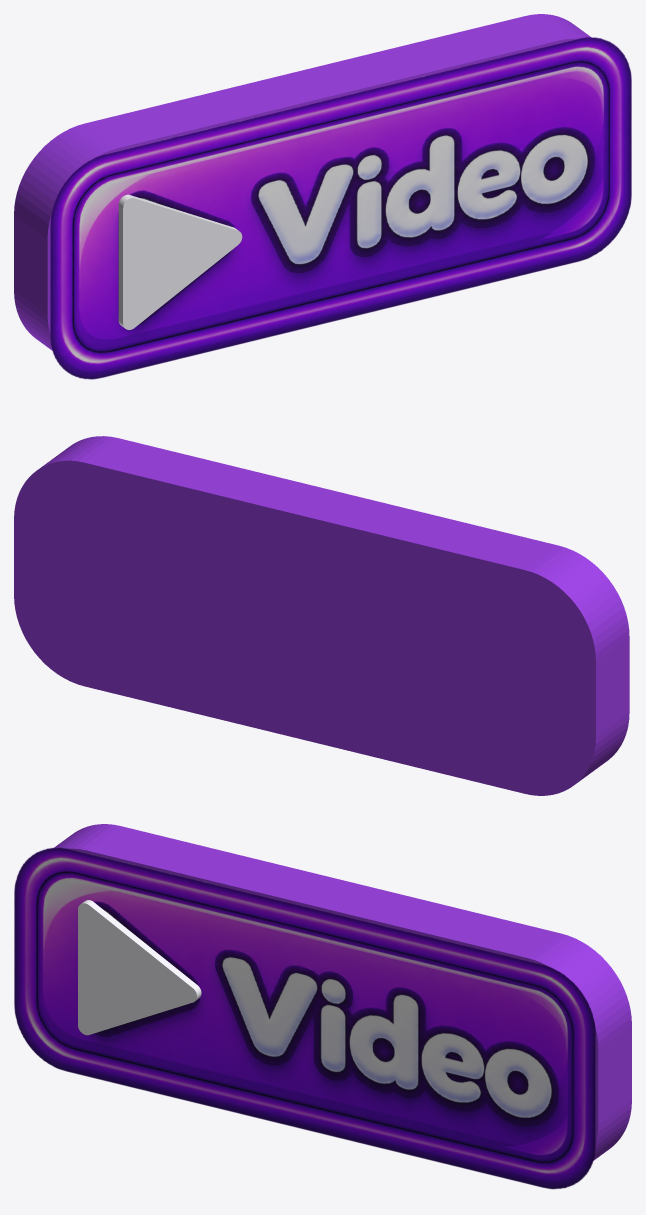
The model's file is Boton_Video.glb.
3 renders of one model, top to bottom at view 1: azimuth 30°, elevation 25°; view 2: azimuth 150°, elevation 25°; view 3: azimuth 330°, elevation 25°, orthographic.
Parts seen in each view (by area): view 1: Texto_Video_Textura, Borde_Boton, Triangulo_Play; view 2: Borde_Boton; view 3: Texto_Video_Textura, Borde_Boton, Triangulo_Play.
Part boxes in pixels (box(x1,y1,x2,y2)): Texto_Video_Textura: box(50, 37, 631, 379); Borde_Boton: box(14, 14, 591, 350); Triangulo_Play: box(118, 194, 242, 329); Borde_Boton: box(14, 436, 629, 795); Texto_Video_Textura: box(14, 847, 595, 1189); Borde_Boton: box(53, 824, 631, 1160); Triangulo_Play: box(78, 900, 201, 1035).
Bounding box in the file's own units: 0.3 × 0.1102 × 0.0363.
Materials: 4 (1 with a texture image).
